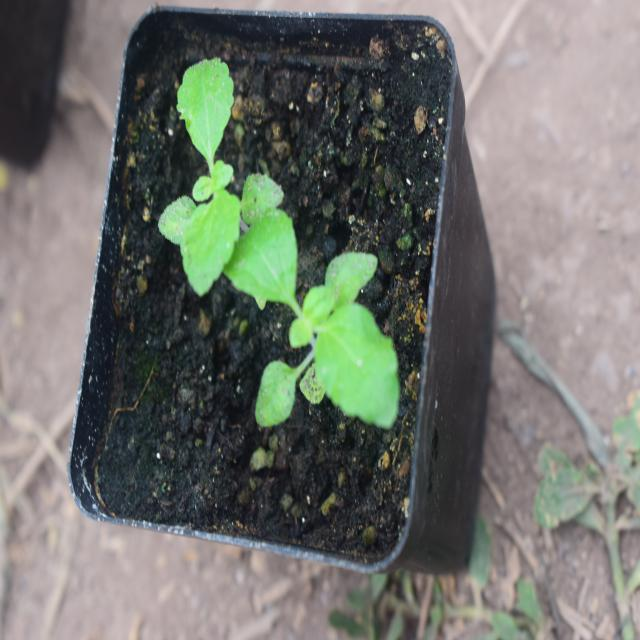billygoat_weed: (230, 195, 382, 429), (159, 67, 263, 300)
